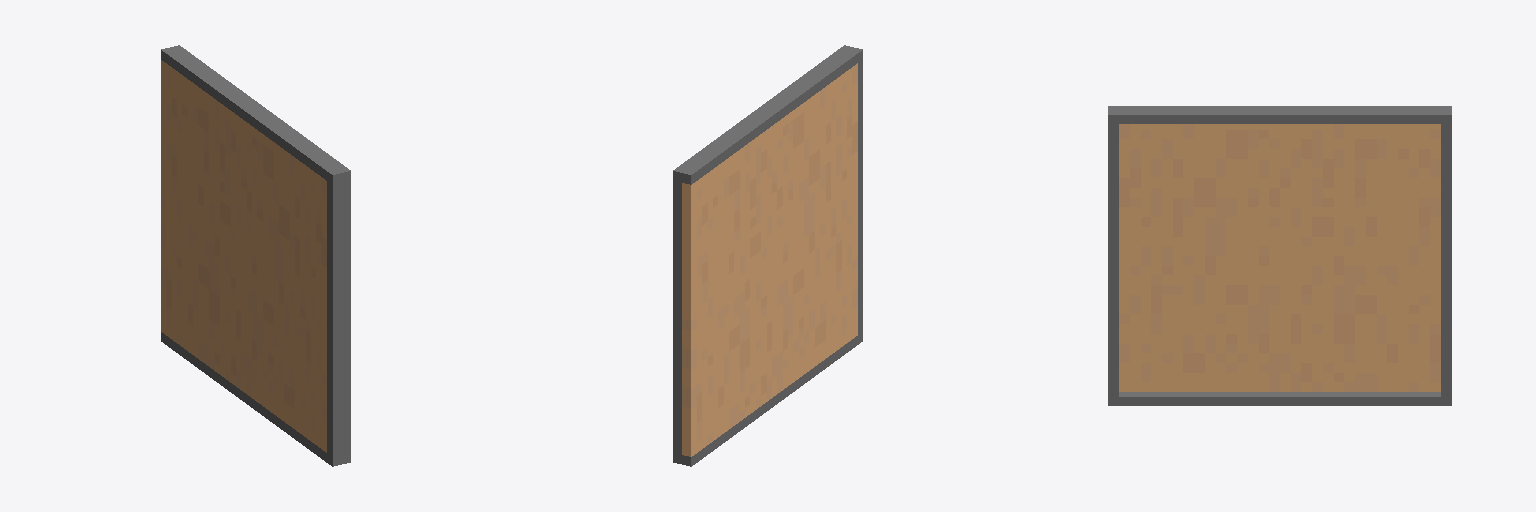
3 views of the same model, side by side, from view 1: azimuth 30°, elevation 25°; view 2: azimuth 150°, elevation 25°; view 3: azimuth 270°, elevation 25° (orthographic).
Visible parts, largest first — view 1: object 1; view 2: object 1; view 3: object 1.
Part boxes in pixels (x1,y1,x2,y2): object 1: (161, 45, 350, 466); object 1: (673, 45, 862, 466); object 1: (1108, 106, 1451, 405).
Size of the model in its own units: 0.2 by 3 by 3.2.
Materials: 1 (1 with a texture image).